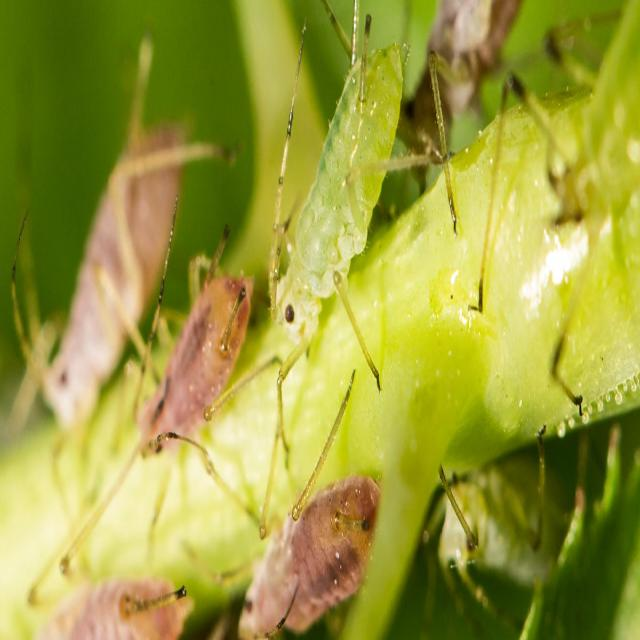Aphid-Grown-: (261, 40, 415, 429), (130, 248, 260, 473), (226, 472, 380, 639)
